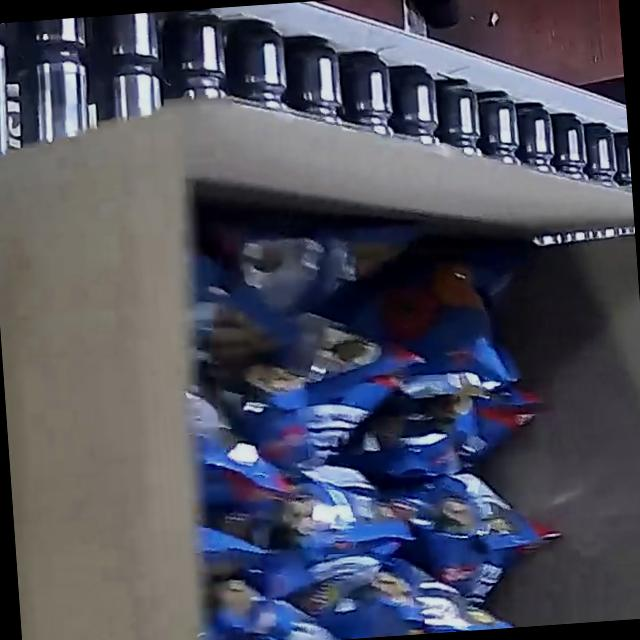paprika: (170, 212, 573, 640)
